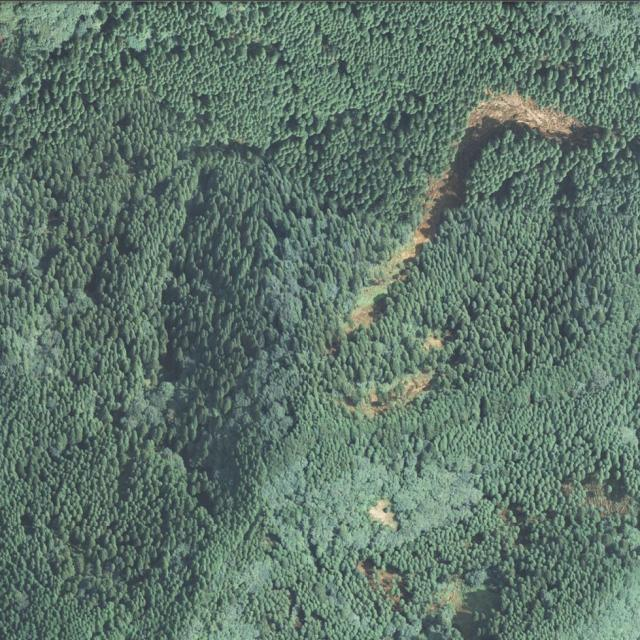landslide: (346, 91, 606, 332)
